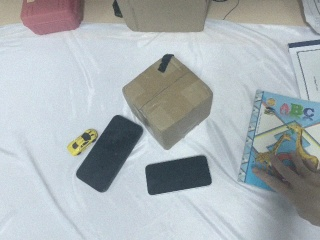book: (232, 86, 320, 216)
box: (121, 52, 214, 151), (112, 1, 210, 35)
phone: (74, 113, 145, 194), (145, 154, 212, 196)
toy_car: (67, 128, 99, 157)
